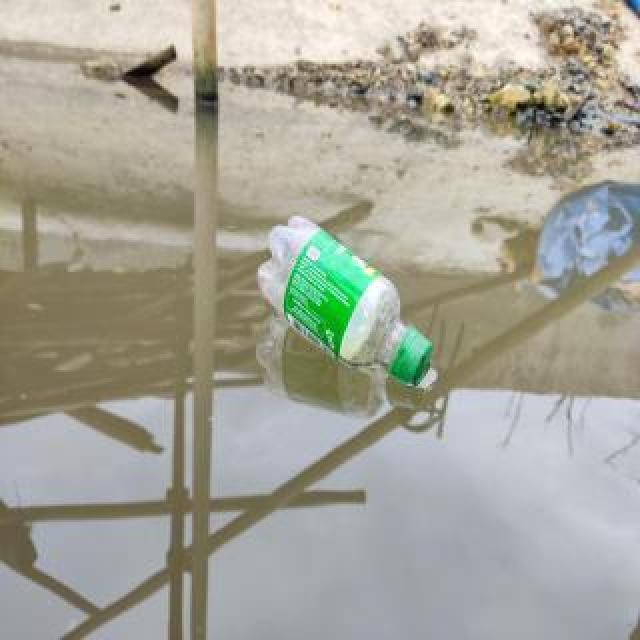bottle: (255, 211, 437, 391)
